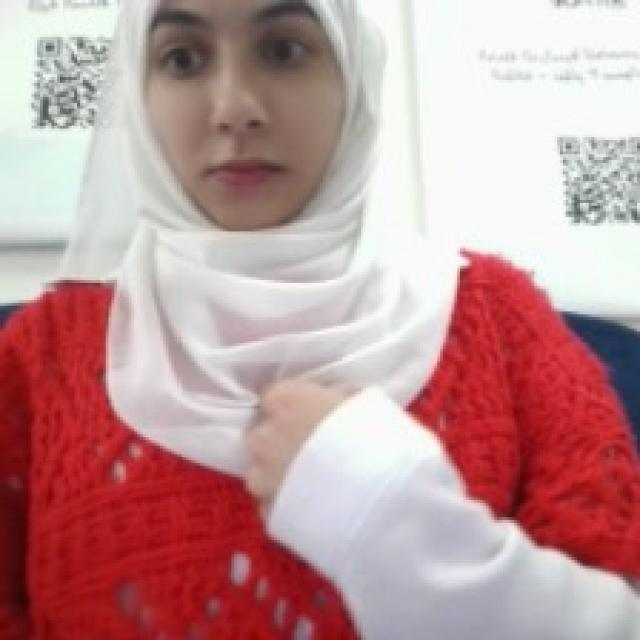me: (232, 370, 364, 537)
